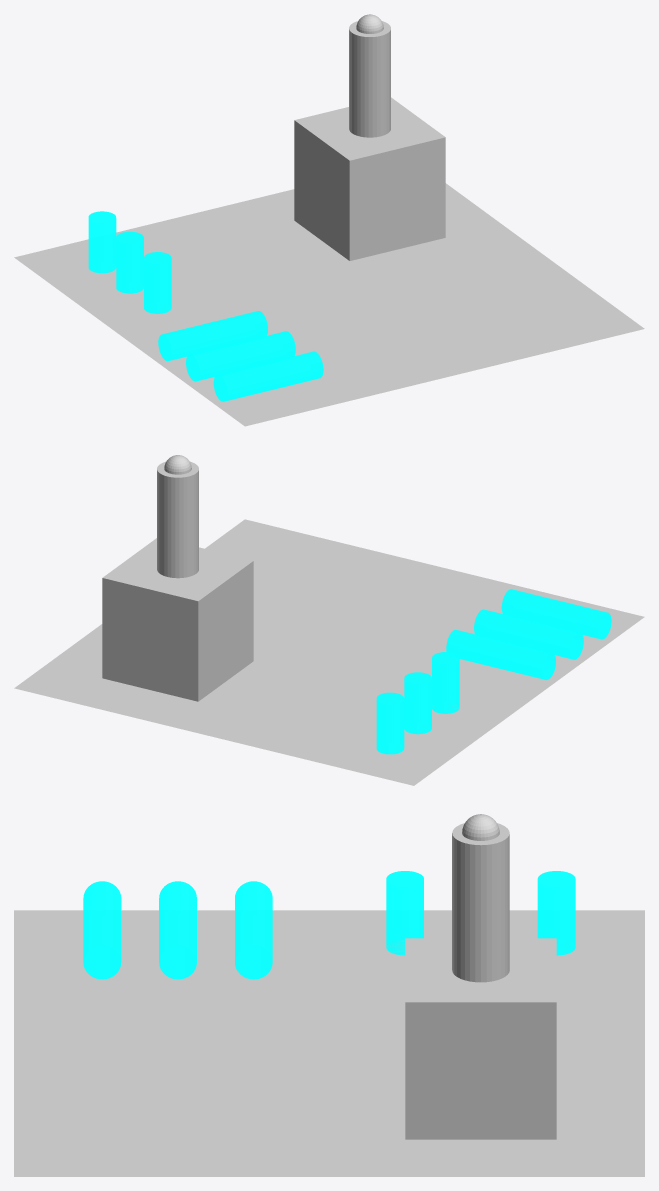
File: FirstMissionNewGame001.fbx
The picture shows the model from 3 angles, top to bottom: view 1: azimuth 30°, elevation 25°; view 2: azimuth 150°, elevation 25°; view 3: azimuth 270°, elevation 25°; orthographic projection. The views are drawn at different scales.
Visible parts, largest first — view 1: 平面, 立方体, 円柱, VeinContainer.001, VeinContainer.002, VeinContainer.003, VeinTank, VeinTank.001, VeinTank.002; view 2: 平面, 立方体, 円柱, VeinContainer.003, VeinContainer.001, VeinContainer.002, VeinTank, VeinTank.001, VeinTank.002; view 3: 平面, 立方体, 円柱, VeinContainer.001, VeinContainer.002, VeinContainer.003, VeinTank, VeinTank.002, 球.
Part boxes in pixels (bbox=[...]): 平面: bbox=[14, 183, 644, 426]; 立方体: bbox=[294, 97, 445, 260]; 円柱: bbox=[349, 21, 390, 137]; VeinContainer.001: bbox=[213, 351, 323, 401]; VeinContainer.002: bbox=[186, 331, 295, 381]; VeinContainer.003: bbox=[158, 311, 267, 361]; VeinTank: bbox=[88, 211, 116, 273]; VeinTank.001: bbox=[116, 231, 143, 293]; VeinTank.002: bbox=[144, 252, 171, 313]; 平面: bbox=[14, 519, 644, 785]; 立方体: bbox=[102, 538, 253, 701]; 円柱: bbox=[157, 461, 198, 578]; VeinContainer.003: bbox=[446, 629, 555, 679]; VeinContainer.001: bbox=[501, 589, 611, 639]; VeinContainer.002: bbox=[474, 609, 583, 659]; VeinTank: bbox=[376, 692, 404, 754]; VeinTank.001: bbox=[404, 672, 431, 734]; VeinTank.002: bbox=[432, 652, 459, 713]; 平面: bbox=[14, 910, 644, 1176]; 立方体: bbox=[405, 938, 556, 1139]; 円柱: bbox=[452, 823, 509, 982]; VeinContainer.001: bbox=[83, 881, 121, 979]; VeinContainer.002: bbox=[159, 881, 196, 979]; VeinContainer.003: bbox=[235, 881, 272, 979]; VeinTank: bbox=[537, 871, 575, 955]; VeinTank.002: bbox=[386, 871, 423, 955]; 球: bbox=[462, 814, 499, 840].
Size of the model in its own units: 10000 by 5100 by 10000.
